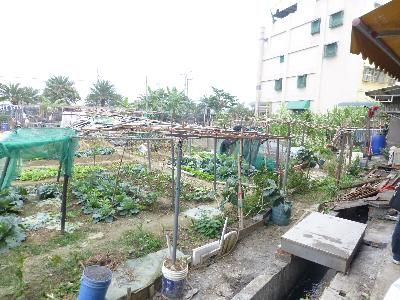bucket: (372, 134, 387, 156)
